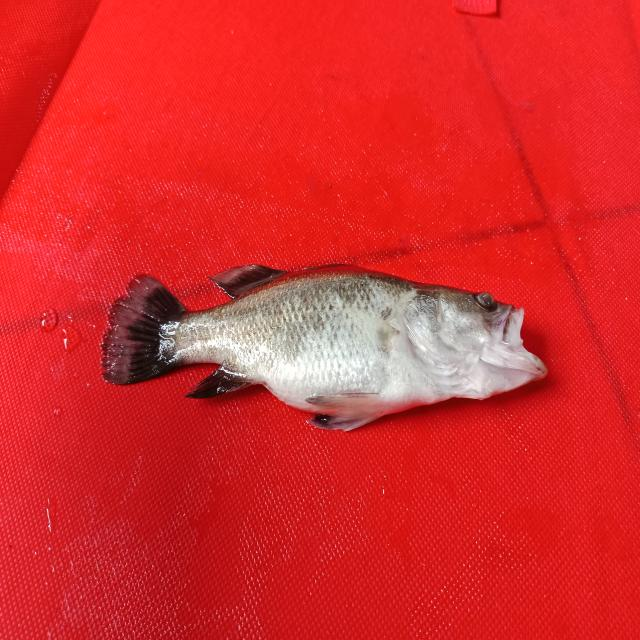ikan: (90, 233, 557, 449)
